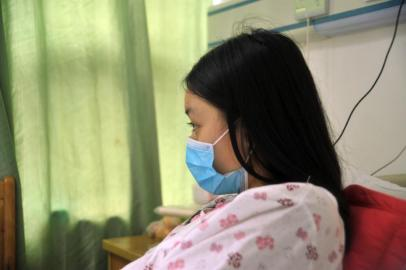face_mask: (184, 81, 259, 192)
